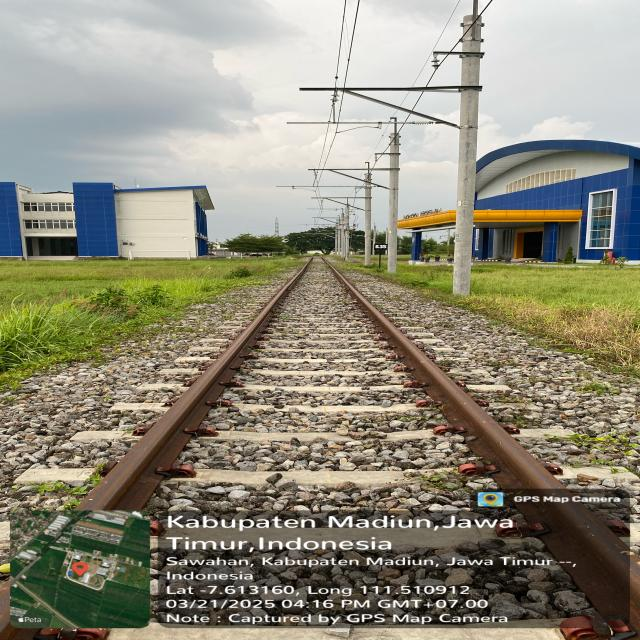rail-detection: (322, 257, 640, 617), (78, 256, 313, 510)
